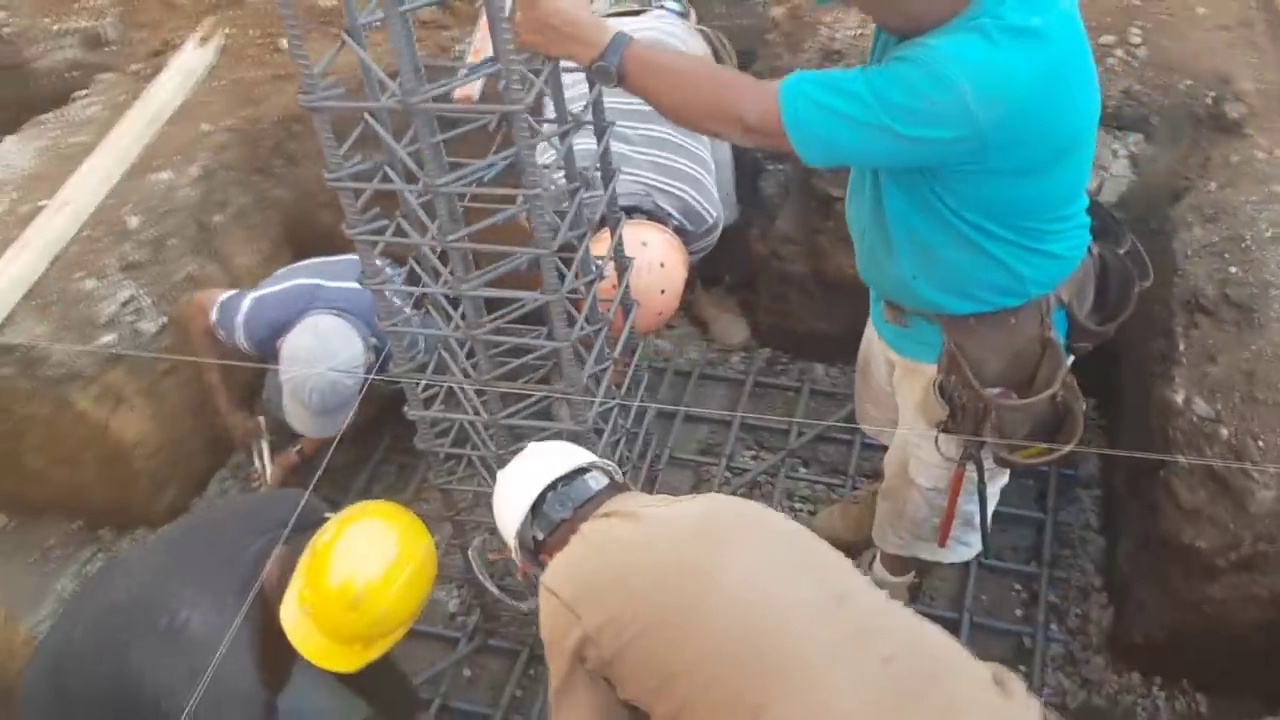helmet: (241, 503, 435, 692), (277, 514, 436, 674), (488, 437, 631, 592), (582, 222, 690, 339)
helmet-off: (270, 304, 374, 447)
helmet-on: (483, 438, 657, 609), (564, 200, 696, 336)
person: (521, 0, 1107, 596), (482, 432, 1076, 720), (478, 0, 757, 351), (3, 498, 438, 719), (174, 227, 432, 485)
